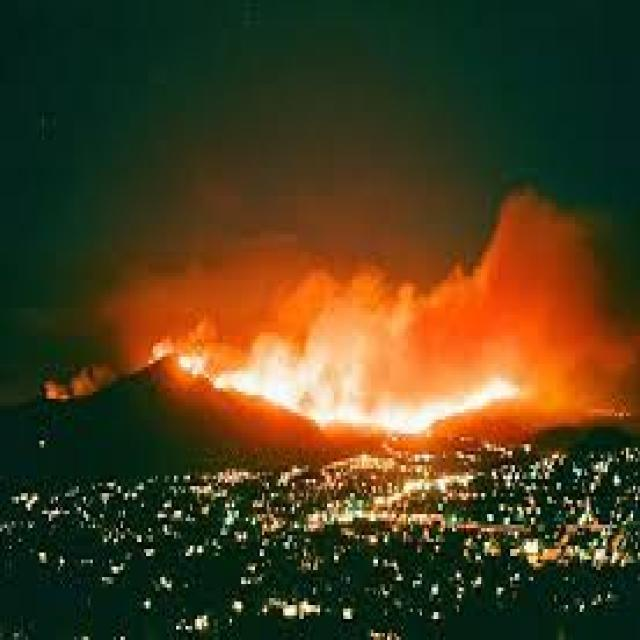Fire: (56, 238, 624, 458)
